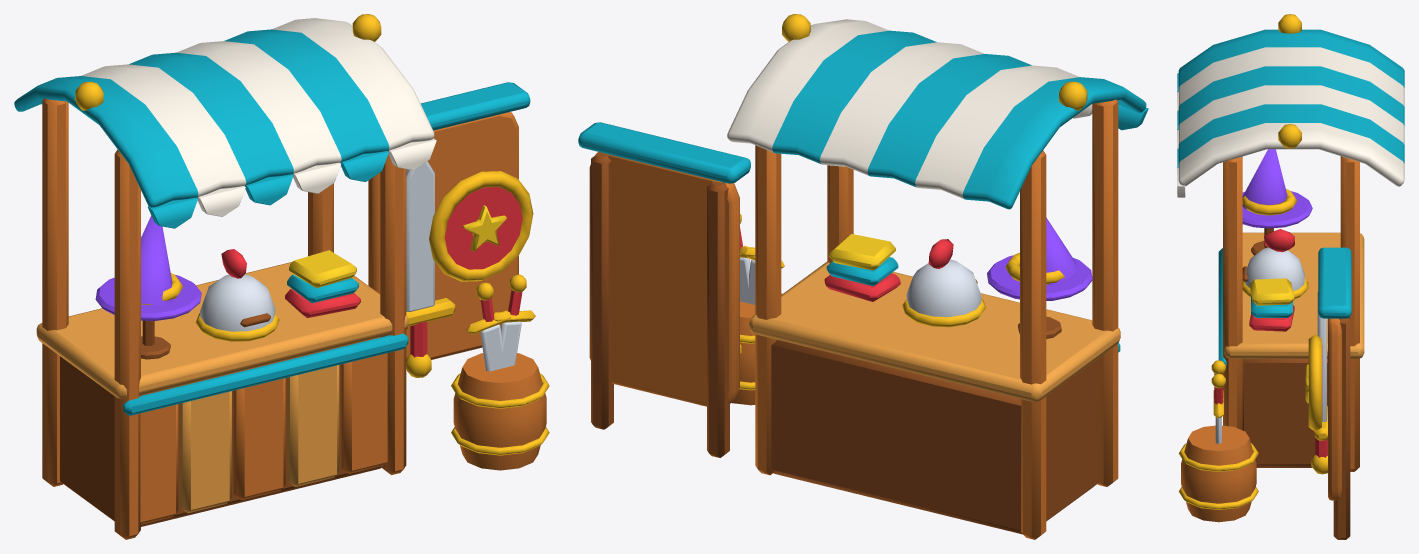
Rendered from equipment-stall.glb.
The picture shows the model from 3 angles, left to right: view 1: azimuth 30°, elevation 25°; view 2: azimuth 150°, elevation 25°; view 3: azimuth 270°, elevation 25°; orthographic projection. The views are drawn at different scales.
Visible parts, largest first — view 1: equipment-stall; view 2: equipment-stall; view 3: equipment-stall.
Boxes of the visible parts, left/top/right/bottom form: equipment-stall: left=14, top=14, right=549, bottom=539; equipment-stall: left=578, top=14, right=1148, bottom=539; equipment-stall: left=1177, top=14, right=1404, bottom=539.
Size of the model in its own units: 3.18 by 2.75 by 1.62.
